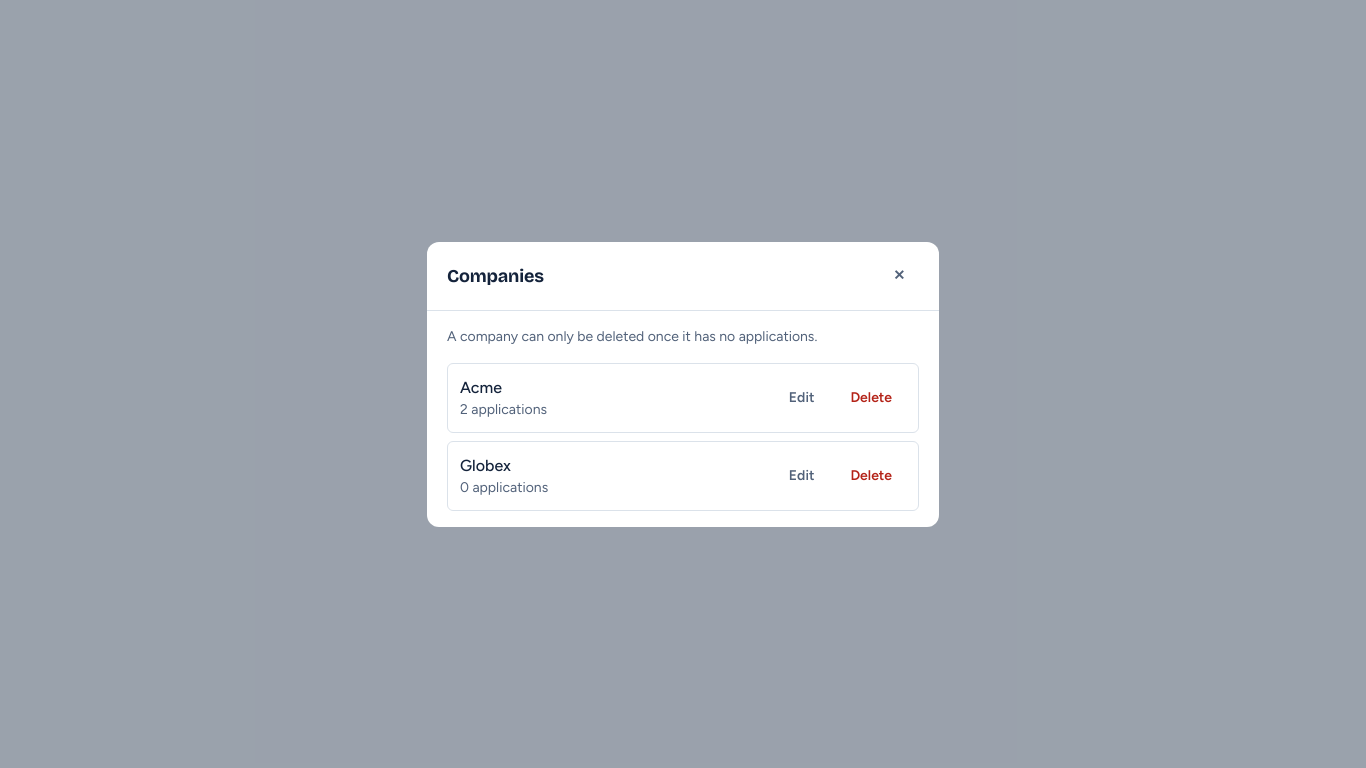
Scenario: a company with applications cannot be deleted and the server message is shown
This screenshot has width=1366, height=768.
Expected: the text "2 applications" is shown, [460,400,547,418]
Click the button with aria-label "Delete Acme" at (871, 398), box [836,380,906,416]
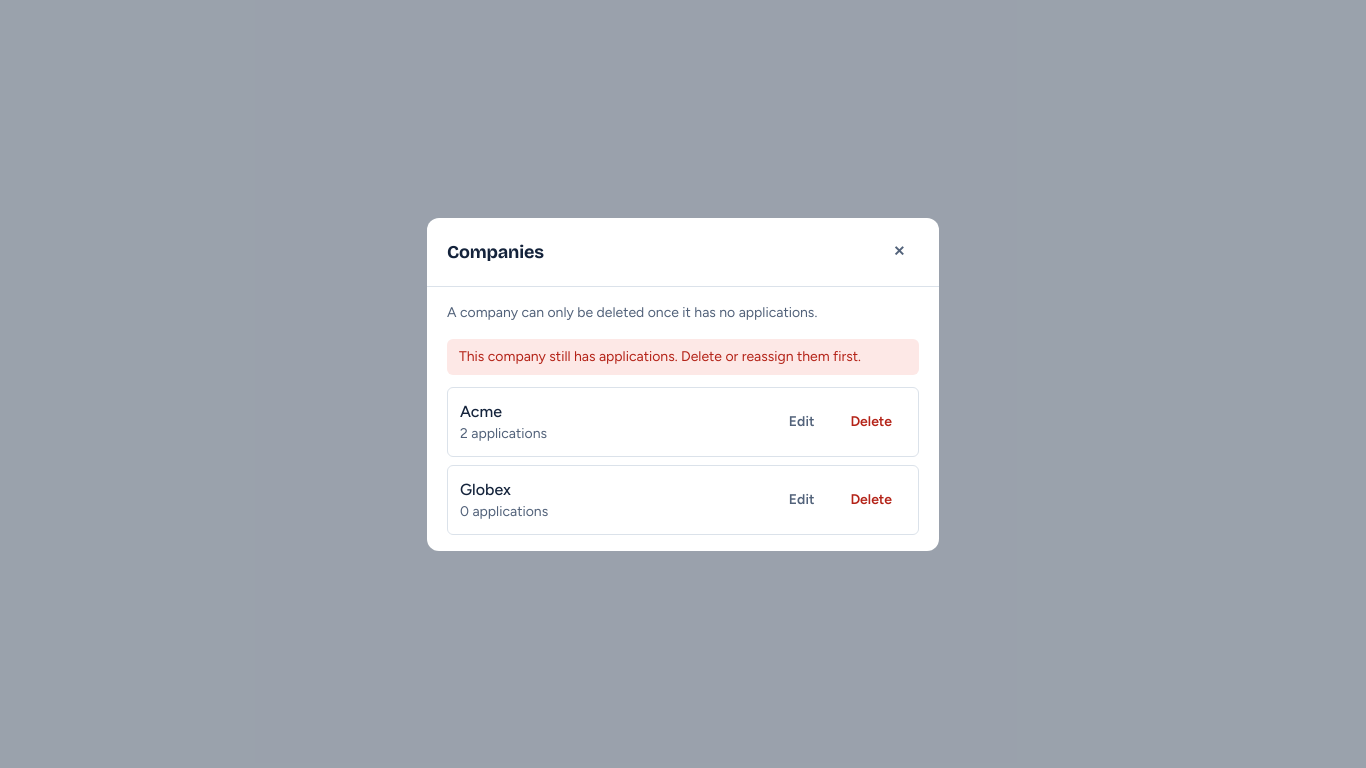
Expected: the text "Acme" is shown, [460,402,502,420]
Expected: the message shows "Delete or reassign them first.", [459,348,861,364]
